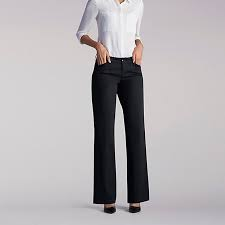F_W_pants: (88, 53, 153, 204)
F_shirt: (74, 1, 150, 63)
